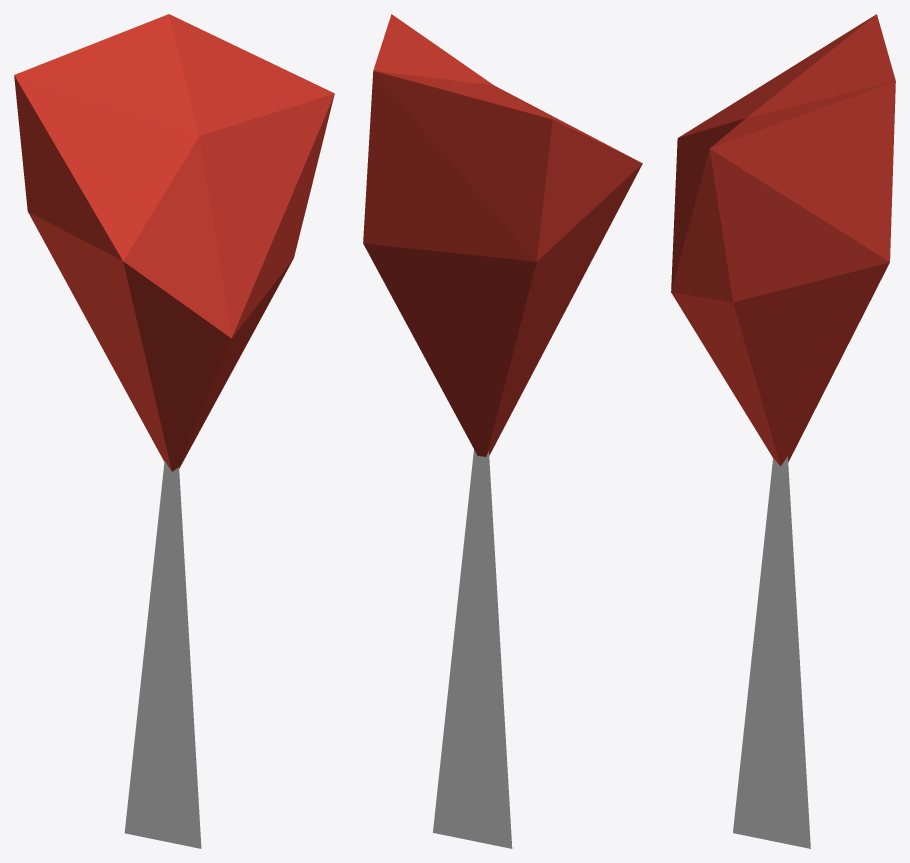
File: world_2_brush_2.dae
3 views of the same model, side by side, from view 1: azimuth 30°, elevation 25°; view 2: azimuth 150°, elevation 25°; view 3: azimuth 270°, elevation 25° (orthographic). The views are drawn at different scales.
Visible parts, largest first — view 1: world_2_brush_2_leaves, world_2_brush_2_base; view 2: world_2_brush_2_leaves, world_2_brush_2_base; view 3: world_2_brush_2_leaves, world_2_brush_2_base.
Boxes of the visible parts, box(x1,y1,x2,y2) form: world_2_brush_2_leaves: box(14, 14, 334, 471); world_2_brush_2_base: box(124, 461, 201, 848); world_2_brush_2_leaves: box(363, 14, 642, 456); world_2_brush_2_base: box(433, 449, 512, 848); world_2_brush_2_leaves: box(671, 14, 895, 466); world_2_brush_2_base: box(733, 456, 810, 848).
Bounding box in the file's own units: 0.2002 × 0.1611 × 0.6136.
